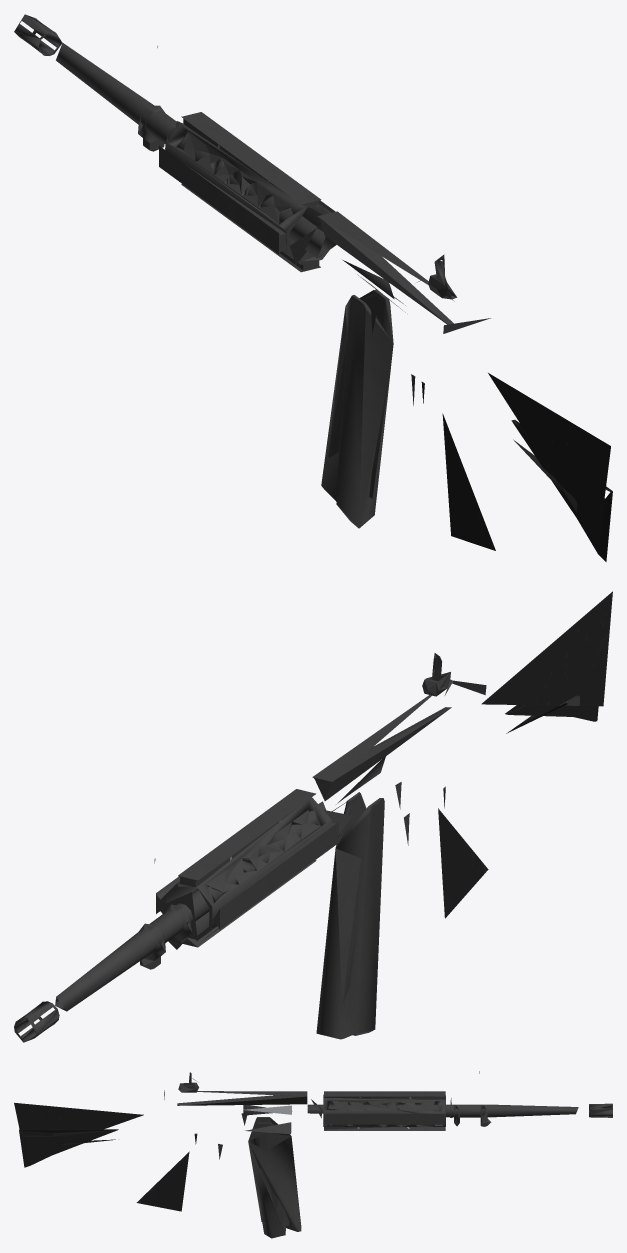
The model's file is rifle-distant.glb.
3 renders of one model, top to bottom at view 1: azimuth 30°, elevation 25°; view 2: azimuth 150°, elevation 25°; view 3: azimuth 270°, elevation 25°, orthographic. The views are drawn at different scales.
Visible parts, largest first — view 1: Service Rifle; view 2: Service Rifle; view 3: Service Rifle.
Boxes of the visible parts, x1,y1,x2,y2 form: Service Rifle: (14, 14, 612, 561); Service Rifle: (14, 591, 612, 1042); Service Rifle: (14, 1071, 612, 1238).
Size of the model in its own units: 0.056 by 0.2608 by 0.8561.
1 material, 1 textured.
